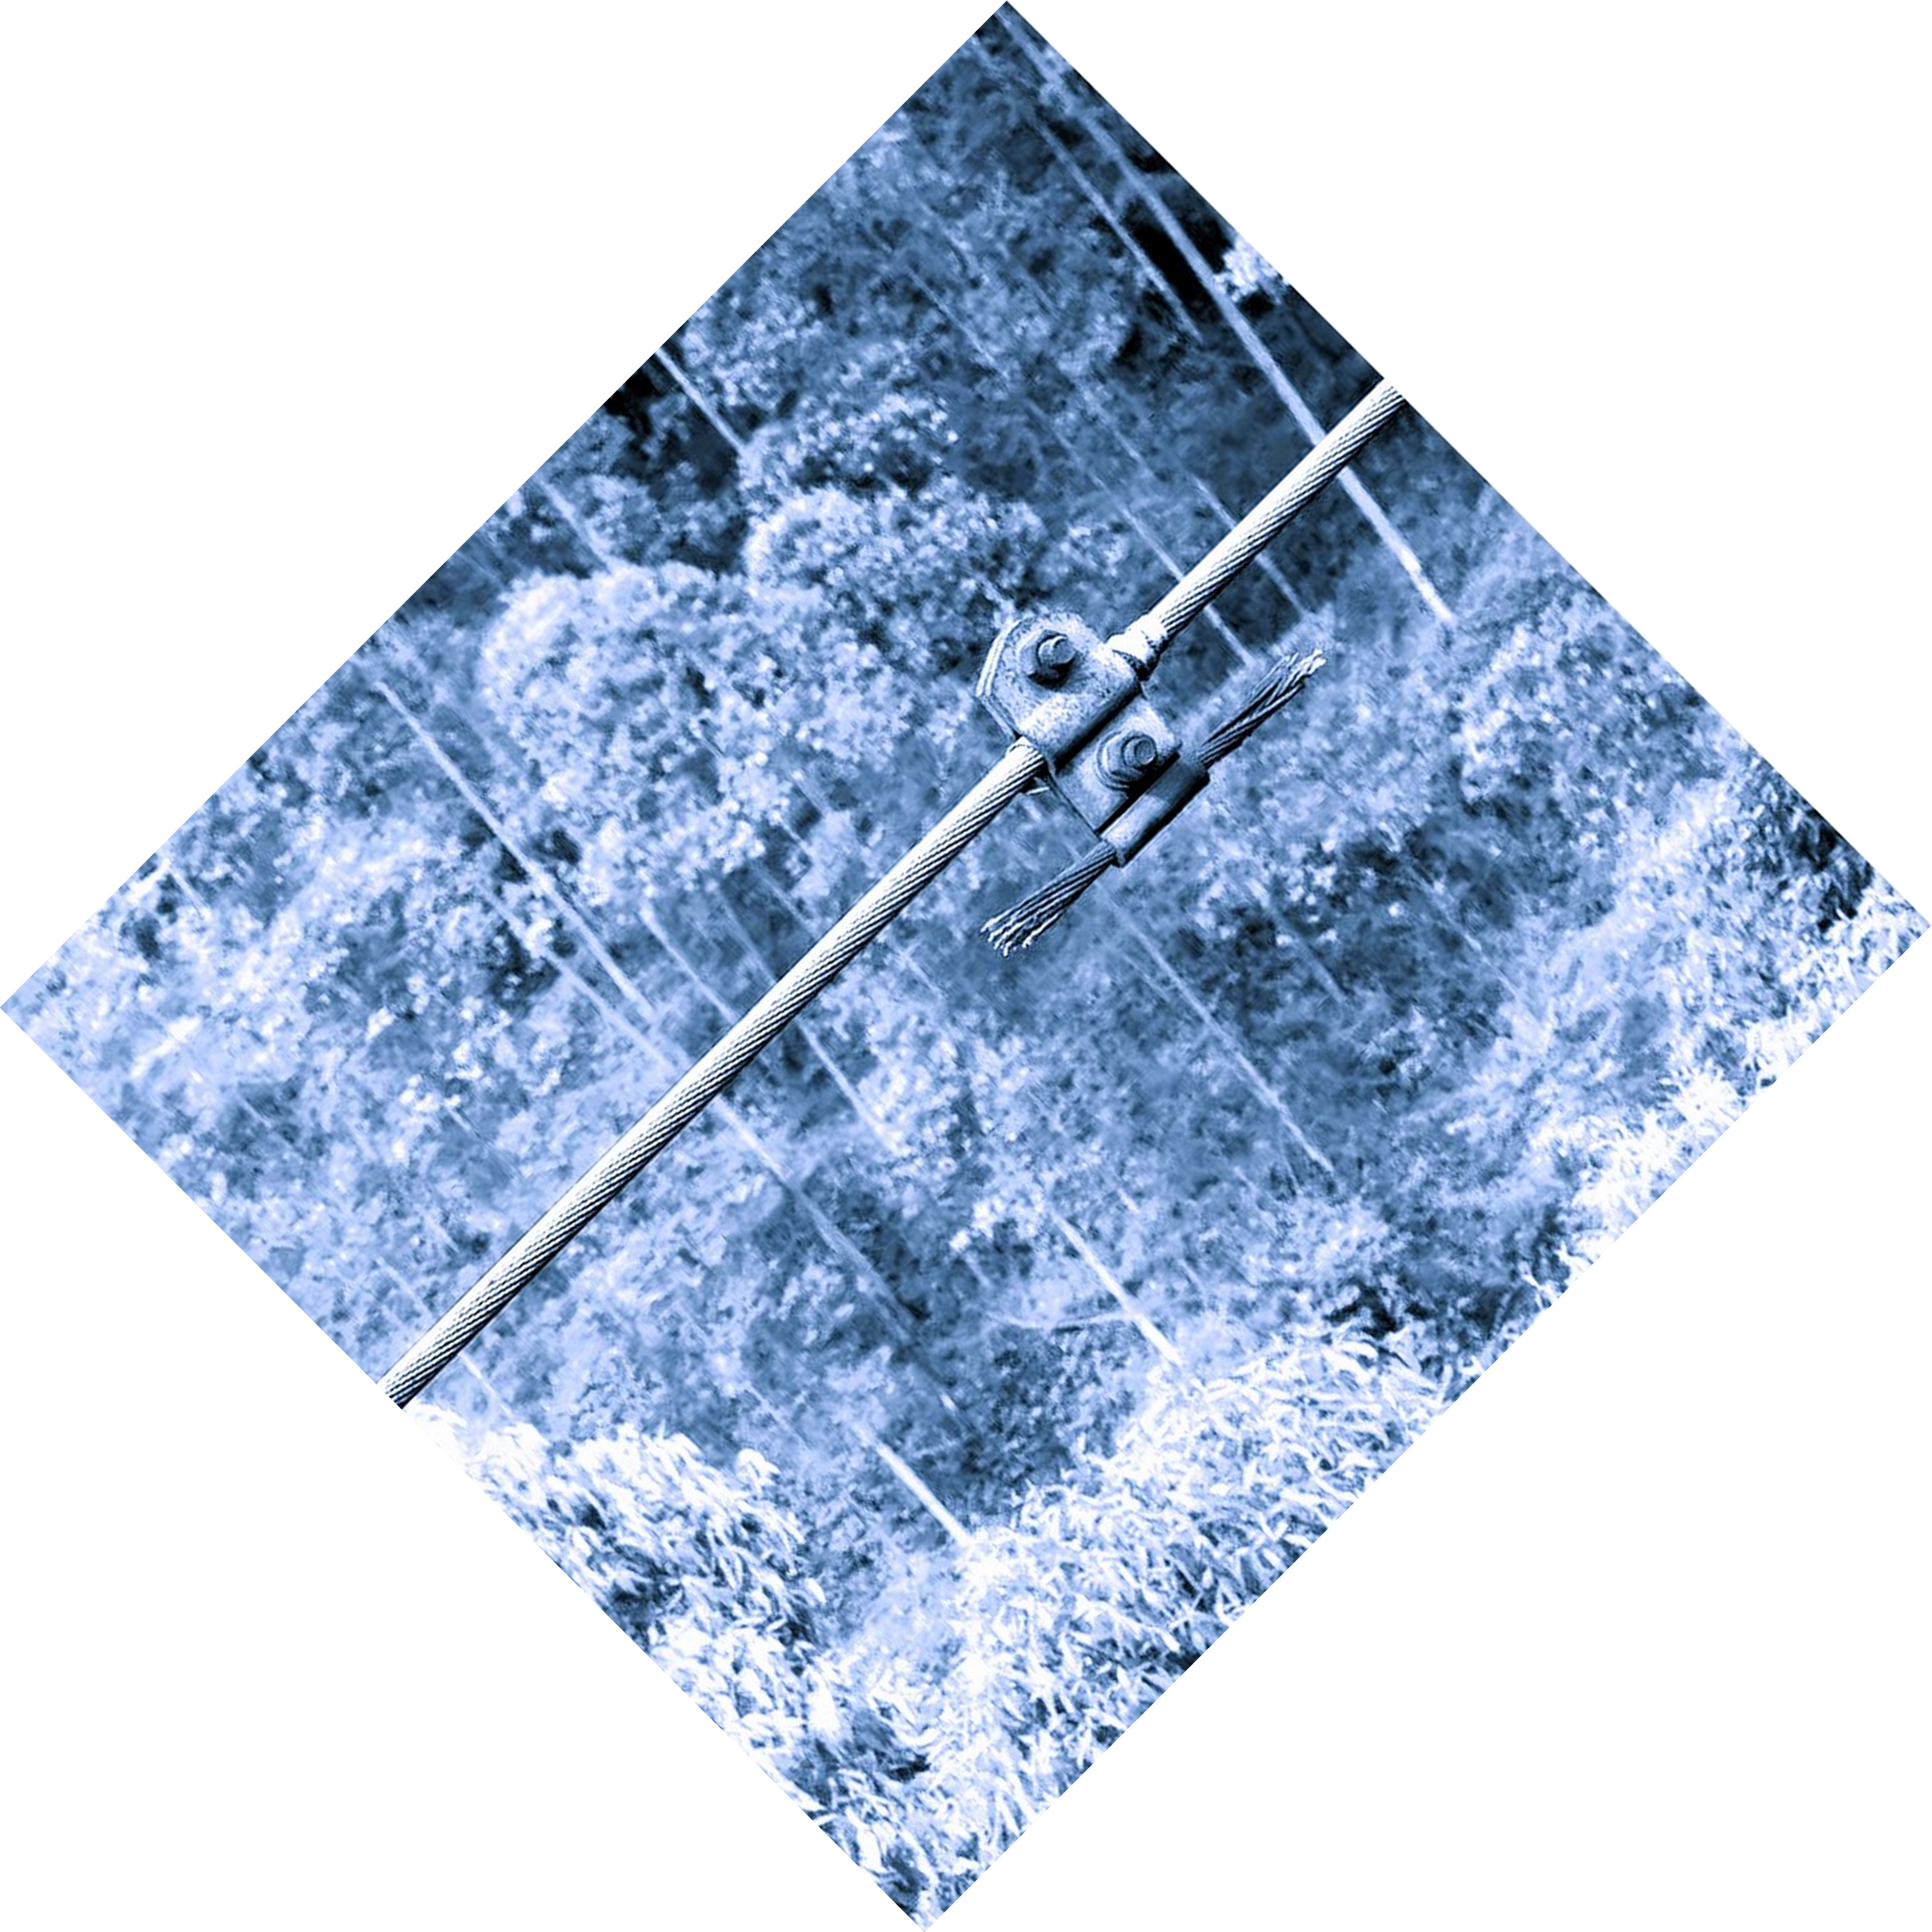Damage of shockproof hammer: (936, 564, 1346, 961)
